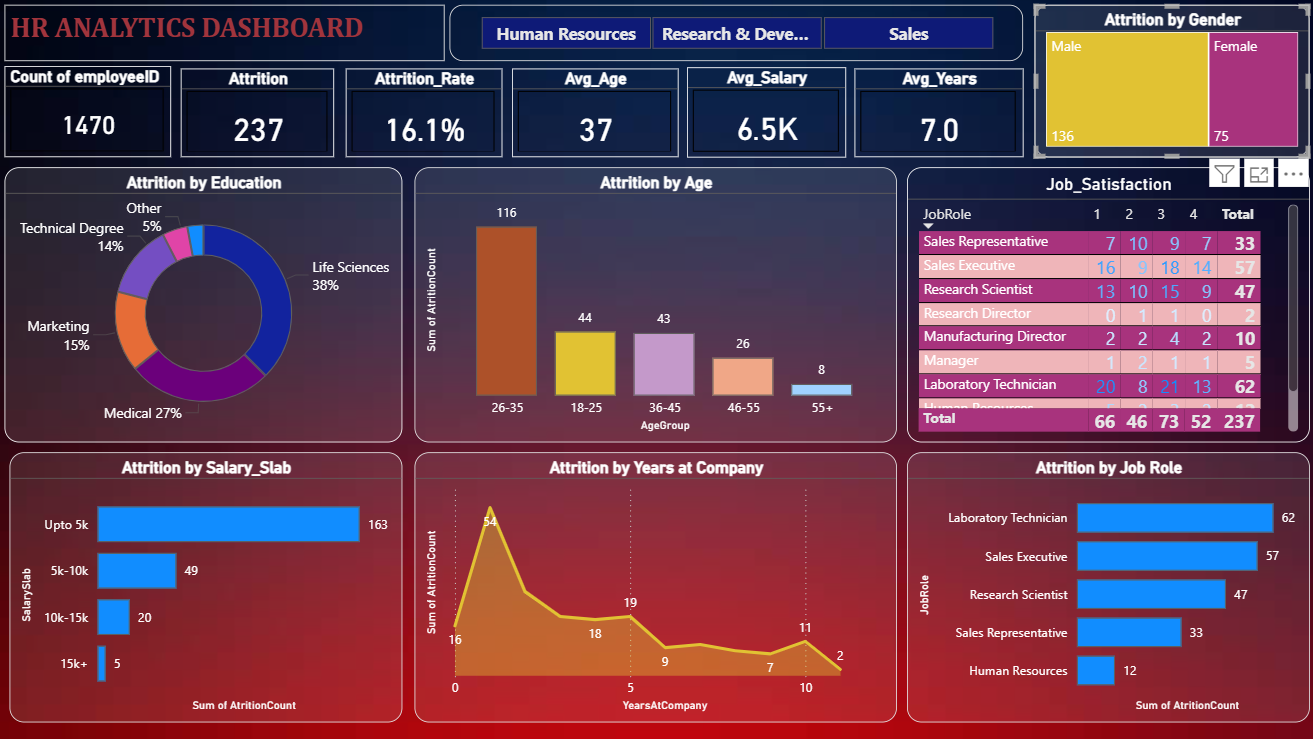

What the dashboard file says about the page in this screenshot:
{"tool":"powerbi","page":{"name":"HR Analytics_Dashboard","canvas":[1280,720],"ordinal":0},"visuals":[{"type":"cardVisual","title":"Count of employeeID","fields":{"Data":["CountNonNull(HR_Analytics.EmpID)"]},"box":[12.1,67.6,160.5,88.1],"z":0},{"type":"cardVisual","title":"Attrition","fields":{"Data":["Sum(HR_Analytics.AtritionCount)"]},"box":[182.2,70,148.4,85.7],"z":1000},{"type":"cardVisual","title":"Attrition_Rate","fields":{"Data":["HR_Analytics.Atrition_Rate"]},"box":[341.4,70,150.8,85.7],"z":2000},{"type":"cardVisual","title":"Avg_Age","fields":{"Data":["Avg(HR_Analytics.Age)"]},"box":[501.9,70,160.5,85.7],"z":3000},{"type":"cardVisual","title":"Avg_Salary","fields":{"Data":["Avg(HR_Analytics.MonthlyIncome)"]},"box":[670.8,68.8,153.2,86.9],"z":4000},{"type":"cardVisual","title":"Avg_Years","fields":{"Data":["Avg(HR_Analytics.YearsAtCompany)"]},"box":[832.4,70,162.9,85.7],"z":5000},{"type":"donutChart","title":"Attrition by Education","fields":{"Category":["HR_Analytics.EducationField"],"Y":["Sum(HR_Analytics.AtritionCount)"]},"box":[12.1,165.3,383.6,265.4],"z":6000},{"type":"columnChart","title":"Attrition by Age","fields":{"Category":["HR_Analytics.AgeGroup"],"Y":["Sum(HR_Analytics.AtritionCount)"]},"box":[407.8,165.3,465.7,265.4],"z":7000},{"type":"pivotTable","title":"Job_Satisfaction","fields":{"Rows":["HR_Analytics.JobRole"],"Columns":["HR_Analytics.JobSatisfaction"],"Values":["Sum(HR_Analytics.AtritionCount)"]},"box":[883.1,165.3,388.5,265.4],"z":8000},{"type":"barChart","title":"Attrition by Salary_Slab","fields":{"Category":["HR_Analytics.SalarySlab"],"Y":["Sum(HR_Analytics.AtritionCount)"]},"box":[16.9,440.4,378.8,260.6],"z":9000},{"type":"barChart","title":"Attrition by Job Role","fields":{"Category":["HR_Analytics.JobRole"],"Y":["Sum(HR_Analytics.AtritionCount)"]},"box":[883.1,440.4,388.5,260.6],"z":10000},{"type":"areaChart","title":"Attrition by Years at Company","fields":{"Category":["HR_Analytics.YearsAtCompany"],"Y":["Sum(HR_Analytics.AtritionCount)"]},"box":[407.8,440.4,465.7,260.6],"z":11000},{"type":"treemap","title":"Attrition by Gender","fields":{"Values":["Sum(HR_Analytics.AtritionCount)"],"Group":["HR_Analytics.Gender"]},"box":[1006.2,8.4,265.4,147.2],"z":12000},{"type":"slicer","fields":{"Values":["HR_Analytics.Department"]},"box":[441.6,8.4,553.8,54.3],"z":12001},{"type":"textbox","box":[12.1,8.4,424.7,54.3],"z":12002}]}

Visuals, with their boxes in screenshot pixels (x1, y1, x2, y2), scaled from the page's 1280x720 canvas onto the 1313x739 screenshot:
"Count of employeeID" cardVisual: box=[12, 69, 177, 160]
"Attrition" cardVisual: box=[187, 72, 339, 160]
"Attrition_Rate" cardVisual: box=[350, 72, 505, 160]
"Avg_Age" cardVisual: box=[515, 72, 679, 160]
"Avg_Salary" cardVisual: box=[688, 71, 845, 160]
"Avg_Years" cardVisual: box=[854, 72, 1021, 160]
"Attrition by Education" donutChart: box=[12, 170, 406, 442]
"Attrition by Age" columnChart: box=[418, 170, 896, 442]
"Job_Satisfaction" pivotTable: box=[906, 170, 1304, 442]
"Attrition by Salary_Slab" barChart: box=[17, 452, 406, 719]
"Attrition by Job Role" barChart: box=[906, 452, 1304, 719]
"Attrition by Years at Company" areaChart: box=[418, 452, 896, 719]
"Attrition by Gender" treemap: box=[1032, 9, 1304, 160]
slicer - HR_Analytics.Department: box=[453, 9, 1021, 64]
textbox: box=[12, 9, 448, 64]
